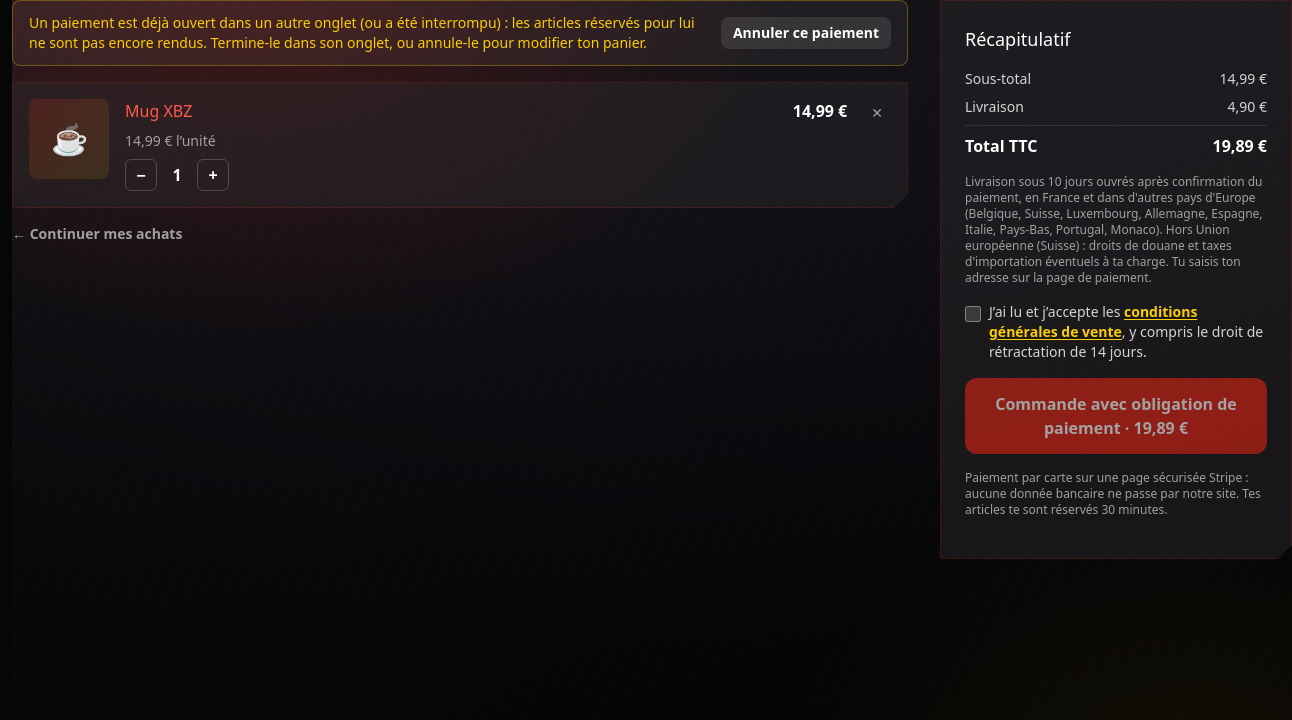
Scenario: CartView : paiement ouvert dans un AUTRE onglet › n'annule PAS d'office le paiement de l'autre onglet : il le signale et propose de l'annuler
Expected: the text "Un paiement est déjà ouvert dans un autre onglet (ou a été interrompu) : les articles réservés pour lui ne sont pas enco" is shown, [29,13,695,52]
// Le client choisit d'annuler : stock rendu, catalogue relu, bandeau retiré.
Click the button "Annuler ce paiement".
click(806, 33)  # box [721,17,891,49]
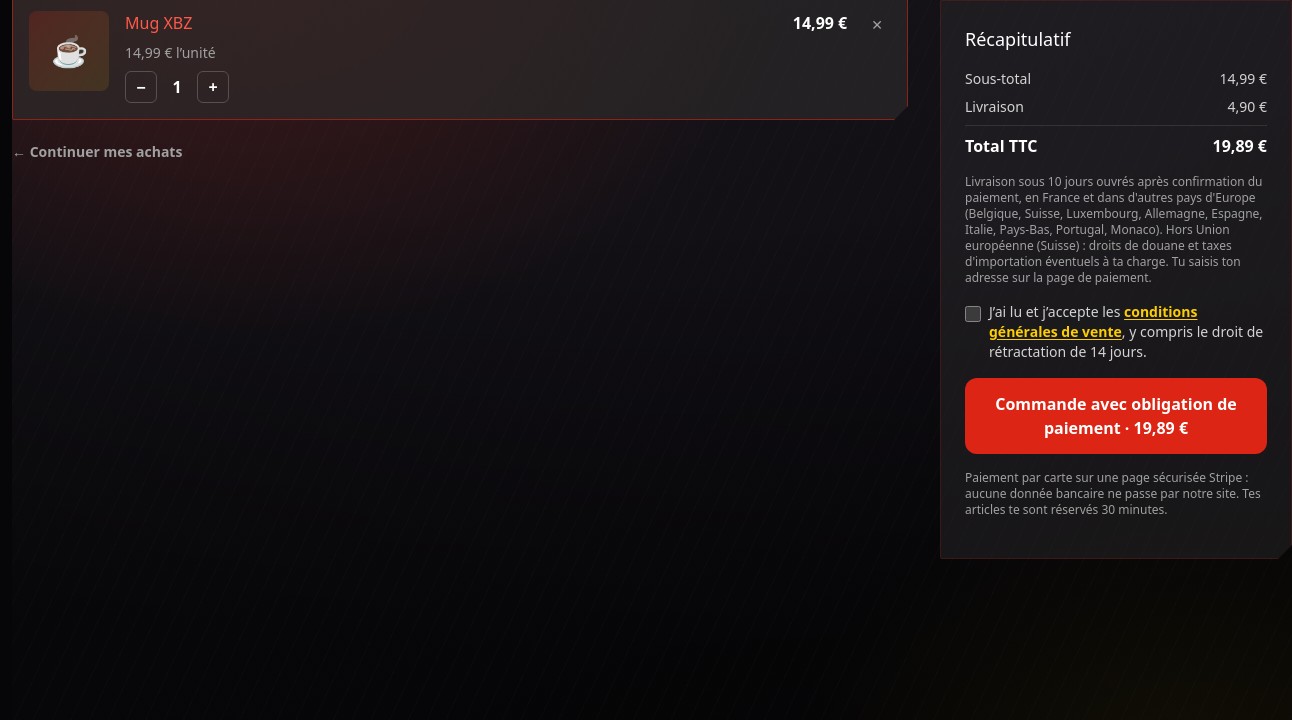
Now the text "Un paiement est déjà ouvert dans un autre onglet (ou a été interrompu) : les articles réservés pour lui ne sont pas enco" is gone
